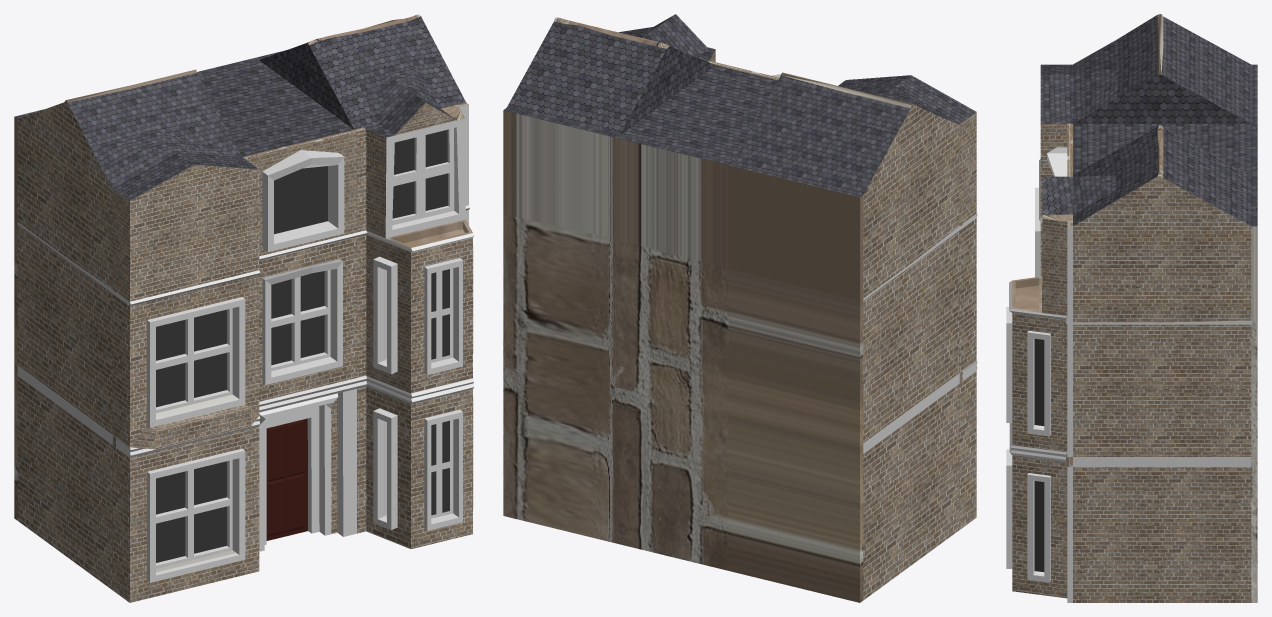
File: House_A.fbx
3 views of the same model, side by side, from view 1: azimuth 30°, elevation 25°; view 2: azimuth 150°, elevation 25°; view 3: azimuth 270°, elevation 25° (orthographic). The views are drawn at different scales.
Parts seen in each view (by area): view 1: House_A_LOD0; view 2: House_A_LOD0; view 3: House_A_LOD0.
Part boxes in pixels (<box>): House_A_LOD0: <box>14,14,474,602</box>; House_A_LOD0: <box>503,14,977,602</box>; House_A_LOD0: <box>1006,14,1257,602</box>.
Size of what is drawn, in the model's own units: 2212 by 2725 by 1452.
